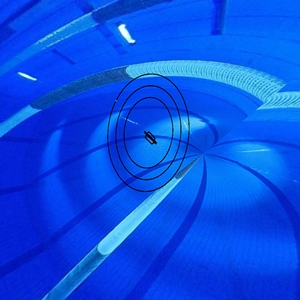circle: (106, 73, 191, 196)
submarine: (142, 125, 162, 150)
